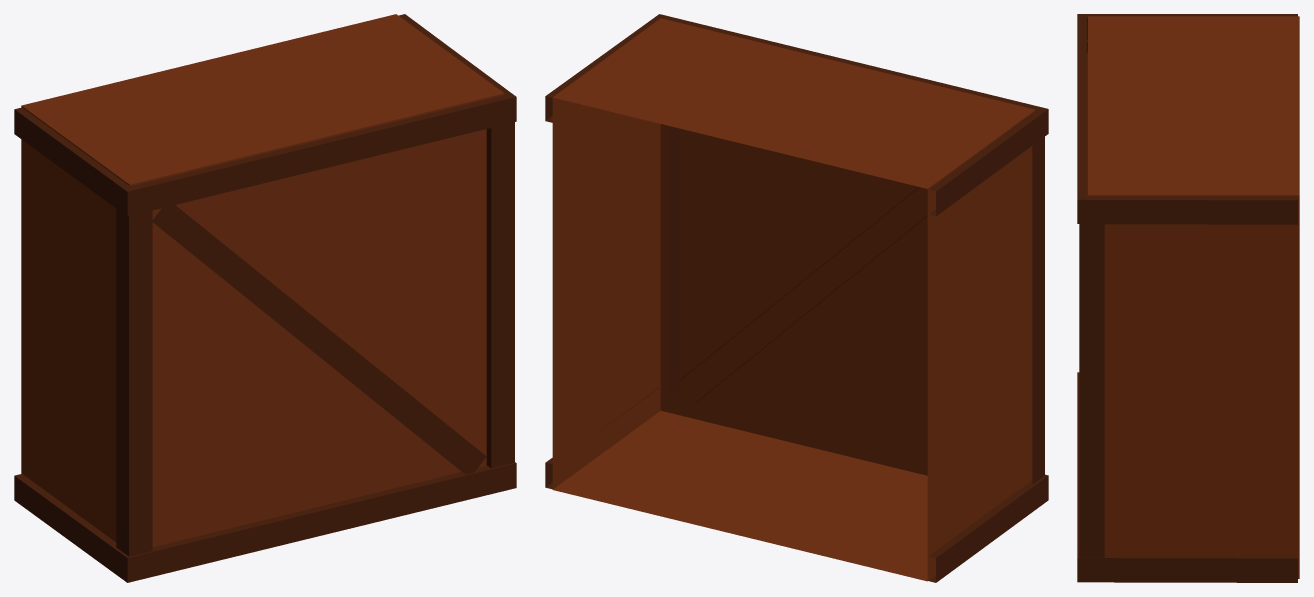
File: Crates.fbx
The picture shows the model from 3 angles, left to right: view 1: azimuth 30°, elevation 25°; view 2: azimuth 150°, elevation 25°; view 3: azimuth 270°, elevation 25°; orthographic projection. The views are drawn at different scales.
Visible parts, largest first — view 1: Crate; view 2: Crate; view 3: Crate.
Boxes of the visible parts, x1,y1,x2,y2 form: Crate: (14,14,516,582); Crate: (545,14,1048,582); Crate: (1077,14,1299,582).
Bounding box in the file's own units: 208 × 200 × 105.
